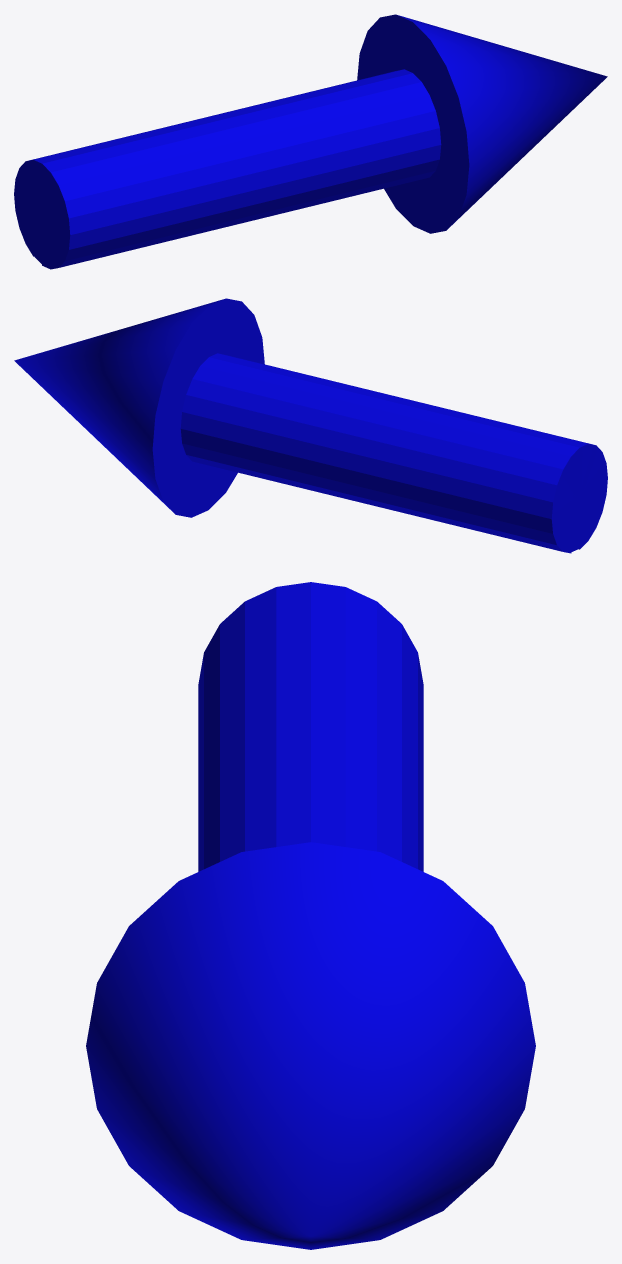
The model's file is arrowBlue.fbx.
3 views of the same model, one above another, from view 1: azimuth 30°, elevation 25°; view 2: azimuth 150°, elevation 25°; view 3: azimuth 270°, elevation 25° (orthographic). The views are drawn at different scales.
Parts seen in each view (by area): view 1: pCone1; view 2: pCone1; view 3: pCone1.
Part boxes in pixels (x1,y1,x2,y2): pCone1: (14, 14, 607, 269); pCone1: (14, 298, 607, 553); pCone1: (86, 582, 535, 1249).
Size of the model in its own units: 5.81 by 2 by 2.
